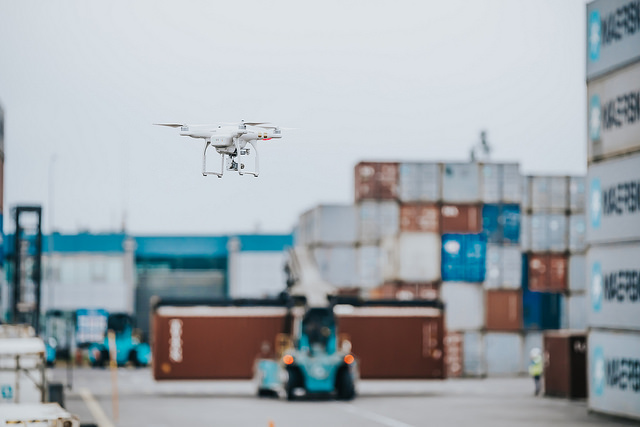drone: (149, 114, 291, 187)
